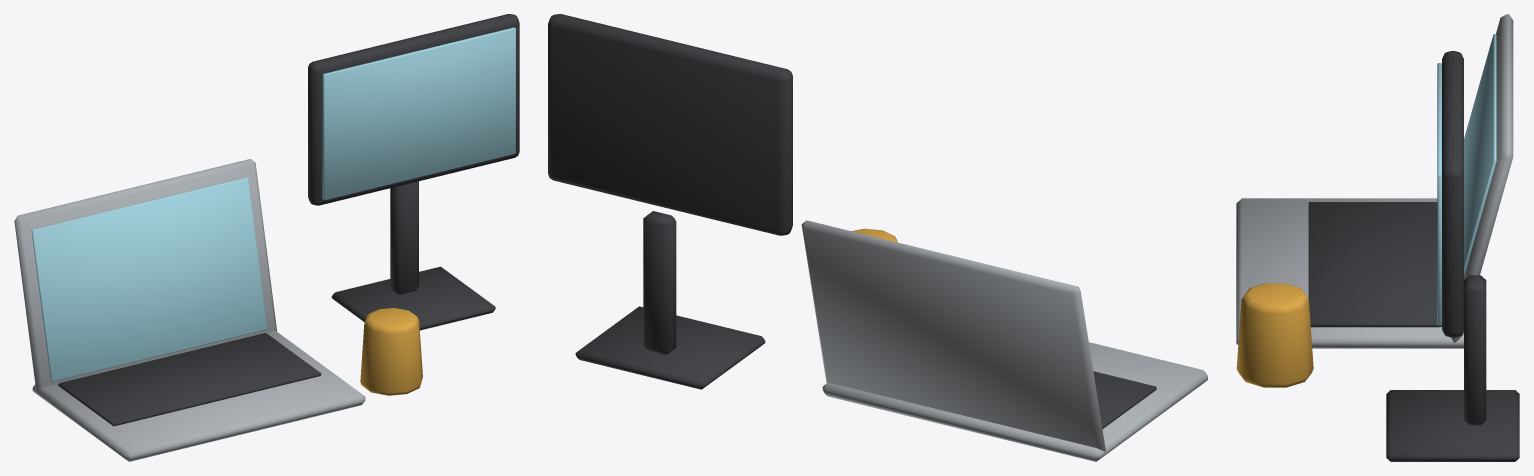
File: mchip.glb
The picture shows the model from 3 angles, left to right: view 1: azimuth 30°, elevation 25°; view 2: azimuth 150°, elevation 25°; view 3: azimuth 270°, elevation 25°; orthographic projection. The views are drawn at different scales.
Visible parts, largest first — view 1: mchip; view 2: mchip; view 3: mchip.
Boxes of the visible parts, left/top/right/bottom form: mchip: left=14, top=14, right=519, bottom=461; mchip: left=548, top=14, right=1207, bottom=461; mchip: left=1236, top=14, right=1519, bottom=461.
Size of the model in its own units: 0.6 by 0.32 by 0.255.
1 material, 1 textured.
